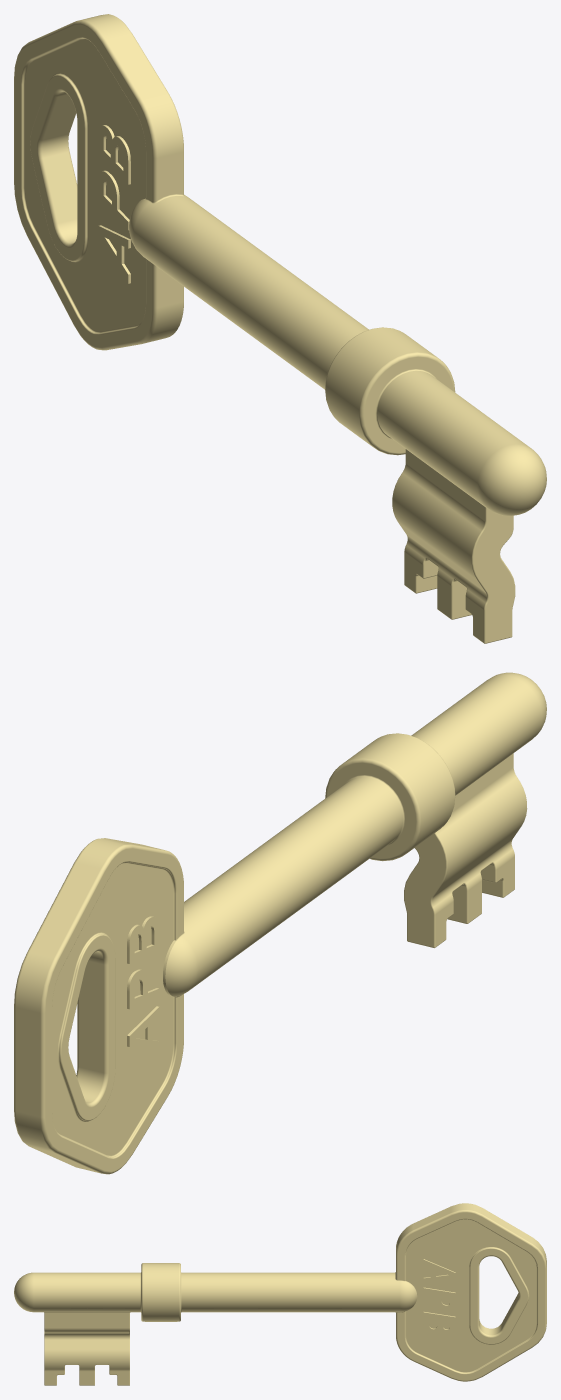
The model's file is GoldKey.fbx.
3 renders of one model, top to bottom at view 1: azimuth 30°, elevation 25°; view 2: azimuth 150°, elevation 25°; view 3: azimuth 270°, elevation 25°, orthographic. The views are drawn at different scales.
Parts seen in each view (by area): view 1: Body1; view 2: Body1; view 3: Body1.
Part boxes in pixels (x1,y1,x2,y2): Body1: (14, 14, 546, 643); Body1: (14, 672, 546, 1174); Body1: (14, 1203, 546, 1385).
Size of the model in its own units: 7.4 by 24.39 by 67.
